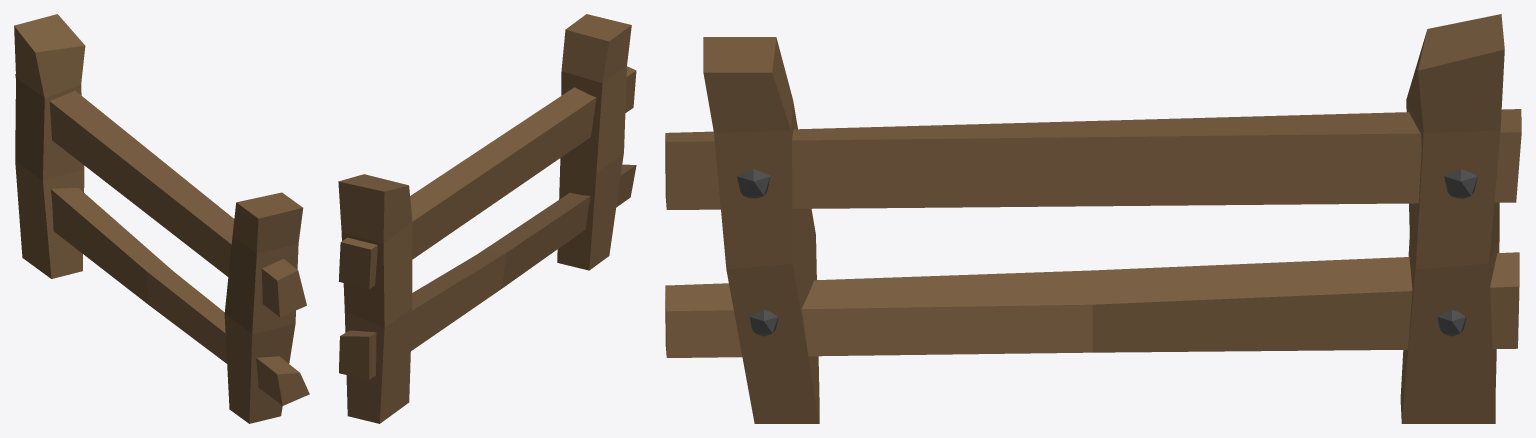
The model's file is Valla.fbx.
The picture shows the model from 3 angles, left to right: view 1: azimuth 30°, elevation 25°; view 2: azimuth 150°, elevation 25°; view 3: azimuth 270°, elevation 25°; orthographic projection. The views are drawn at different scales.
Parts seen in each view (by area): view 1: Cube; view 2: Cube; view 3: Cube.
Part boxes in pixels (x1,y1,x2,y2): Cube: [14, 14, 309, 423]; Cube: [338, 14, 636, 423]; Cube: [665, 14, 1521, 423].
Bounding box in the file's own units: 111 × 477 × 976.
